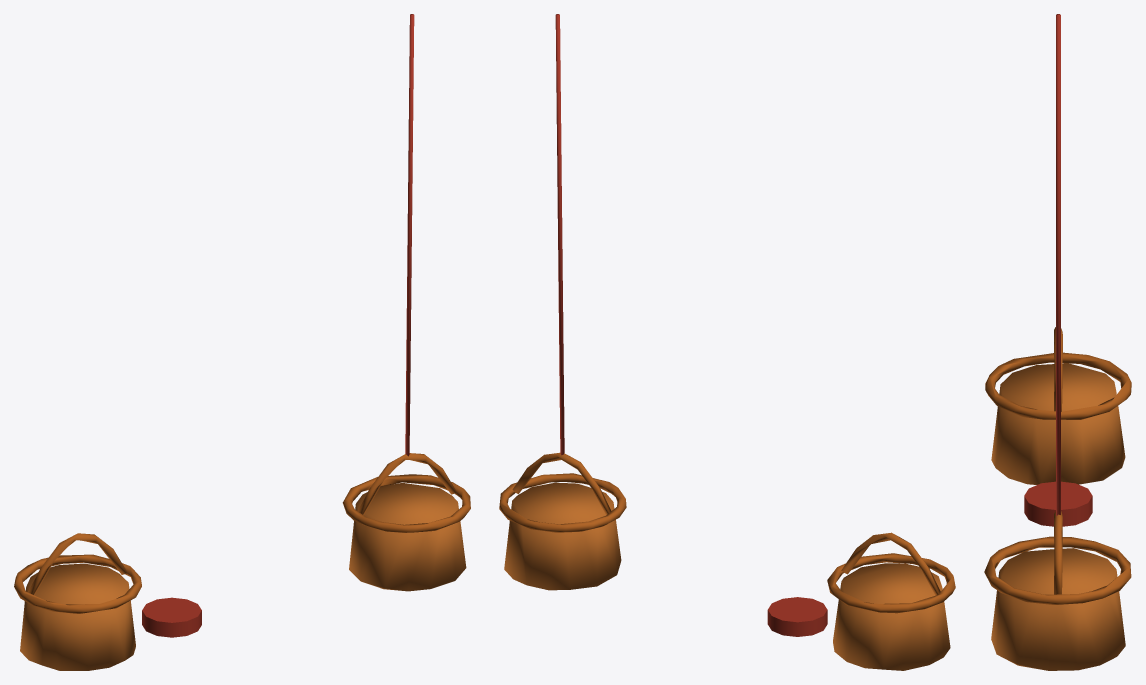
File: gio.glb
The picture shows the model from 3 angles, left to right: view 1: azimuth 30°, elevation 25°; view 2: azimuth 150°, elevation 25°; view 3: azimuth 270°, elevation 25°; orthographic projection. The views are drawn at different scales.
Visible parts, largest first — view 1: w_gio_tha, w_gio_tren, w_day_tha, w_day_tren; view 2: w_gio_tha, w_gio_tren, w_day_tha, w_day_tren; view 3: w_gio_tha, w_gio_tren, w_day_tha, w_day_tren.
Boxes of the visible parts, x1=… form: w_gio_tha: x1=342, y1=453, x2=470, y2=591; w_gio_tren: x1=14, y1=533, x2=141, y2=670; w_day_tha: x1=405, y1=14, x2=414, y2=456; w_day_tren: x1=142, y1=597, x2=201, y2=637; w_gio_tha: x1=499, y1=452, x2=626, y2=590; w_gio_tren: x1=827, y1=532, x2=955, y2=670; w_day_tha: x1=555, y1=14, x2=564, y2=455; w_day_tren: x1=767, y1=597, x2=827, y2=636; w_gio_tha: x1=984, y1=511, x2=1131, y2=670; w_gio_tren: x1=985, y1=327, x2=1131, y2=484; w_day_tha: x1=1056, y1=14, x2=1060, y2=515; w_day_tren: x1=1024, y1=481, x2=1092, y2=526.
Size of the model in its own units: 0.9337 by 1.12 by 0.2371.
